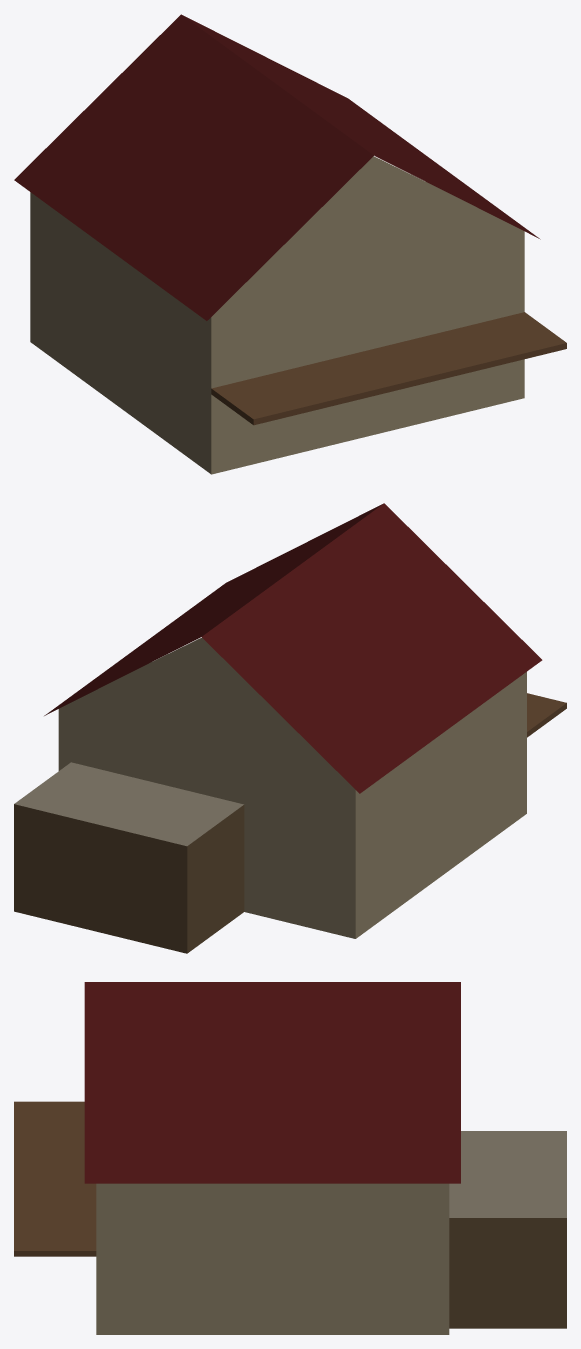
File: rw-mercantile.towns-v1.lod2.glb
3 renders of one model, top to bottom at view 1: azimuth 30°, elevation 25°; view 2: azimuth 150°, elevation 25°; view 3: azimuth 270°, elevation 25°, orthographic. The views are drawn at different scales.
Parts seen in each view (by area): view 1: rw-mercantile; view 2: rw-mercantile; view 3: rw-mercantile.
Boxes of the visible parts, x1,y1,x2,y2 form: rw-mercantile: (14,14,566,474); rw-mercantile: (14,503,566,953); rw-mercantile: (14,982,566,1334).
Bounding box in the file's own units: 12.8 × 10.43 × 18.8.
